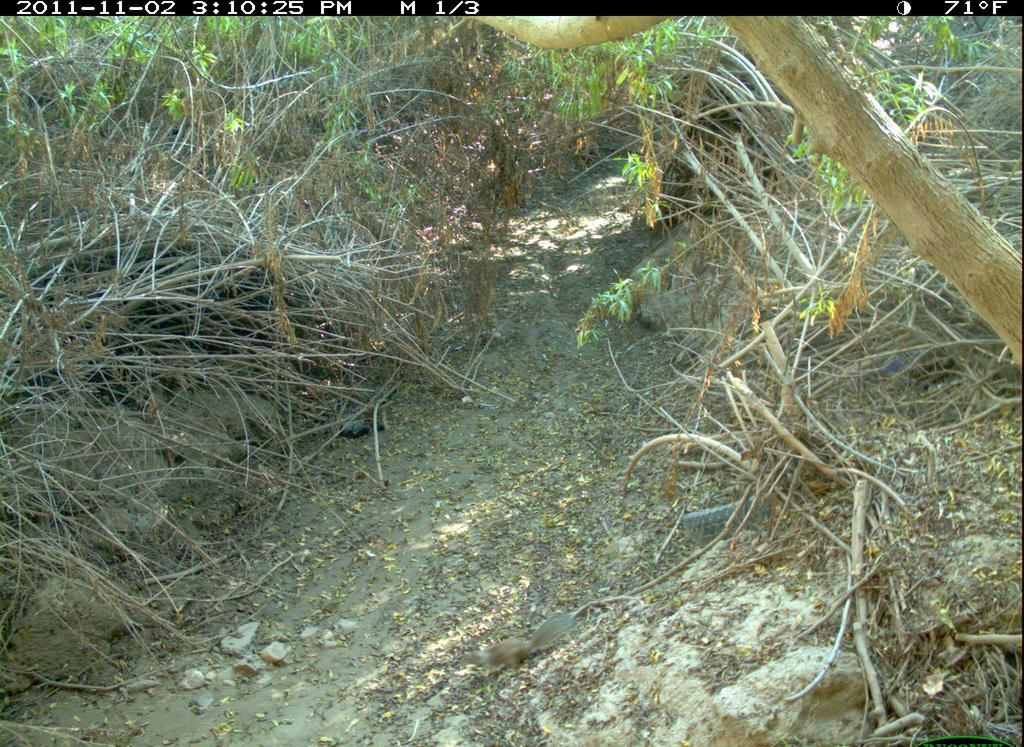squirrel: (452, 609, 585, 683)
